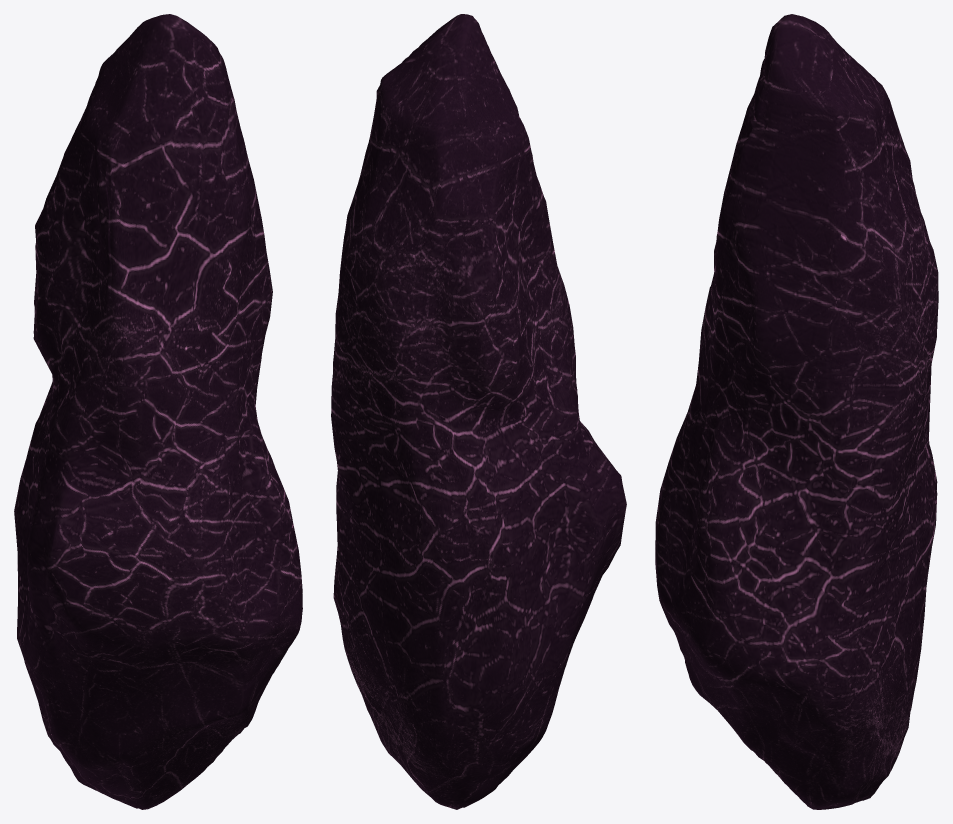
Rendered from Monolit.fbx.
3 views of the same model, side by side, from view 1: azimuth 30°, elevation 25°; view 2: azimuth 150°, elevation 25°; view 3: azimuth 270°, elevation 25° (orthographic). The views are drawn at different scales.
Parts seen in each view (by area): view 1: Mesh_monolit; view 2: Mesh_monolit; view 3: Mesh_monolit.
Part boxes in pixels (box(x1,y1,x2,y2)): Mesh_monolit: box(14, 14, 302, 809); Mesh_monolit: box(331, 14, 626, 809); Mesh_monolit: box(655, 14, 938, 809).
Bounding box in the file's own units: 198 × 185 × 575.
Materials: 1 (1 with a texture image).
